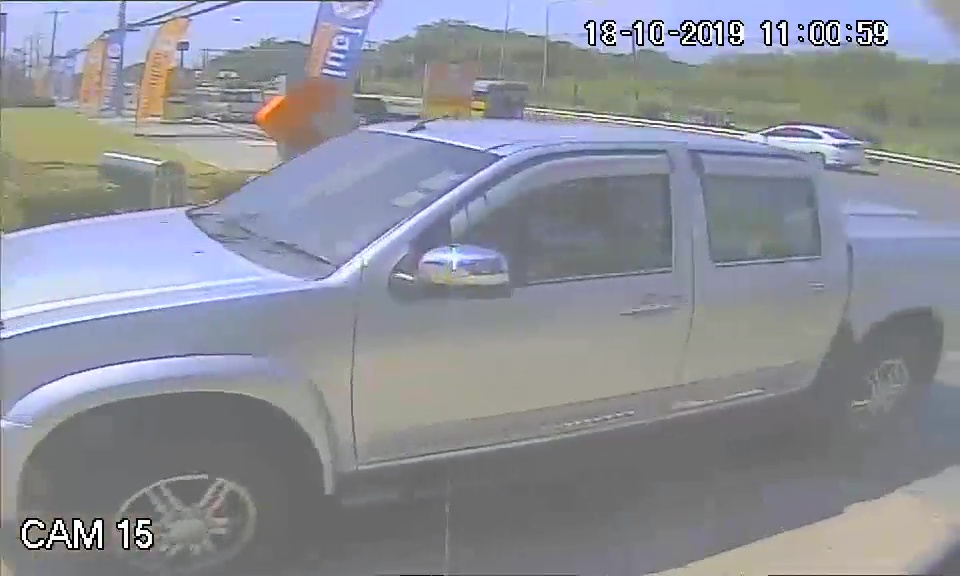pickup: (10, 113, 957, 500)
